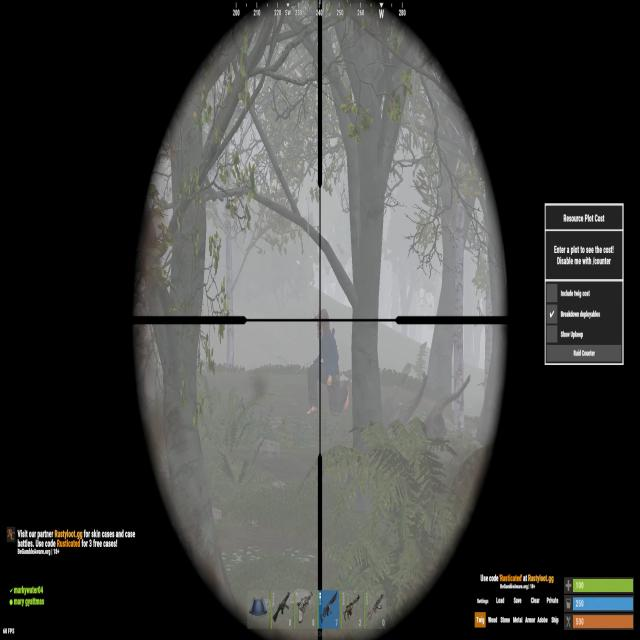Player: (306, 308, 349, 415)
